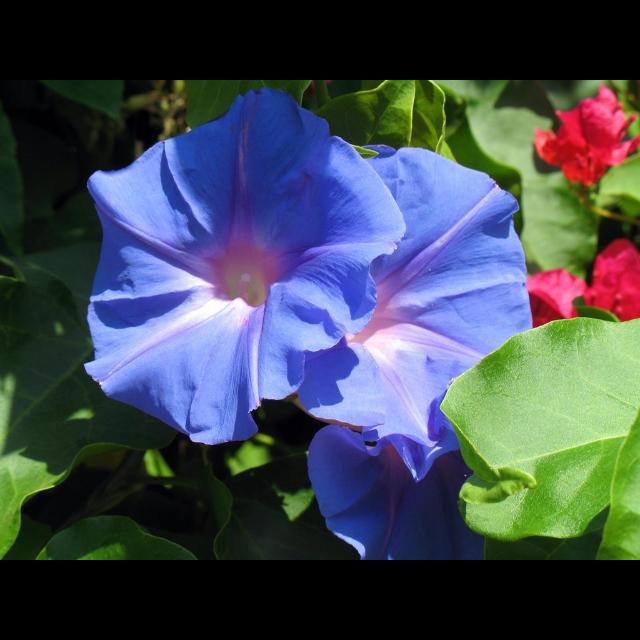Flower: (88, 110, 444, 460), (296, 144, 534, 448), (307, 424, 487, 560), (532, 82, 640, 186), (526, 239, 640, 329)
